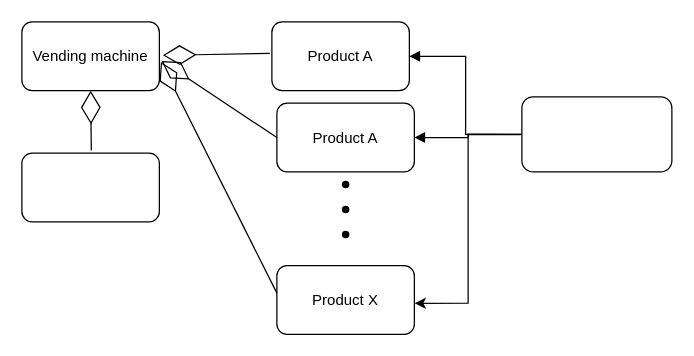
This 694x356 diagram has some shape labels left out. The shapes that lost their labels are listed below. From the top down, each one's centre as x and y in pixels, then its label:
the point at 596,134: Product
the point at 90,187: Coins
